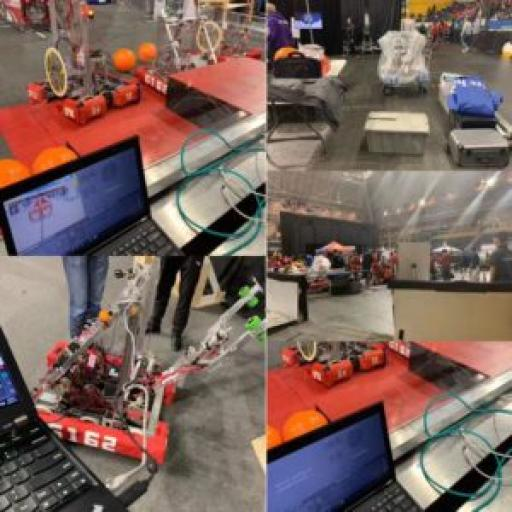robot: (34, 256, 261, 473), (24, 4, 142, 122), (288, 274, 386, 380), (376, 14, 435, 94)
